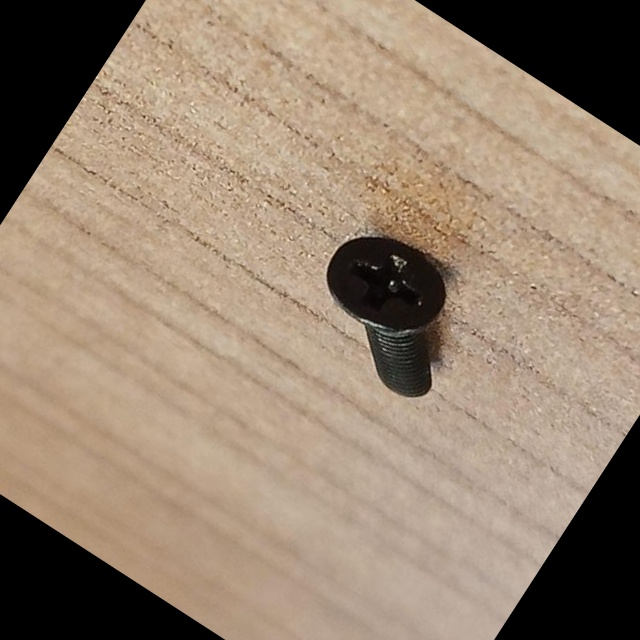phillips: (309, 213, 464, 358)
